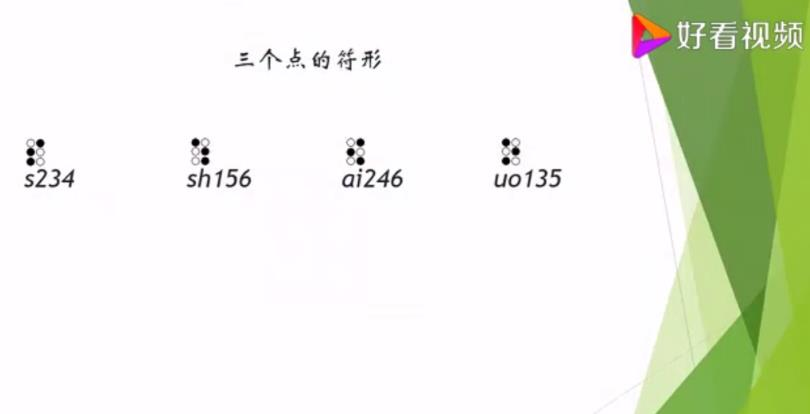Braille: (25, 138, 47, 167), (345, 136, 366, 166), (191, 137, 211, 166), (501, 137, 521, 166)
